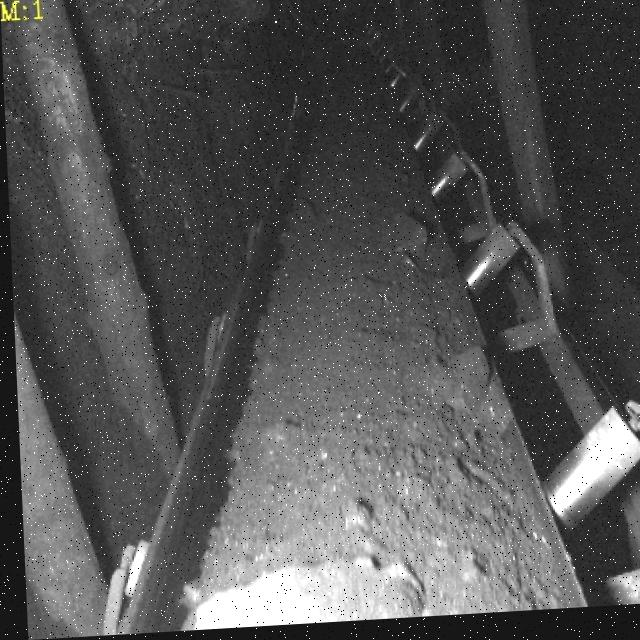large_sized_coal: (173, 558, 403, 633)
